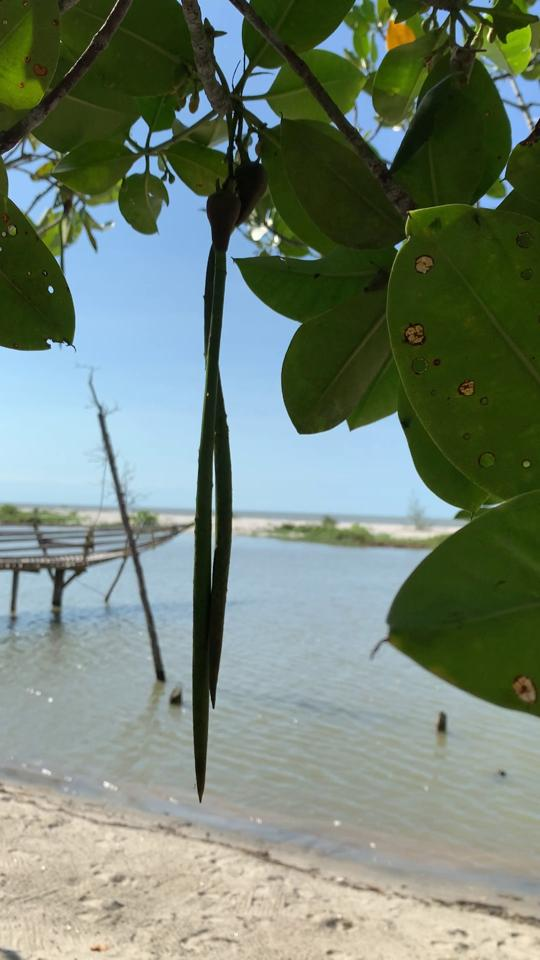setengah matang: (180, 177, 252, 816)
